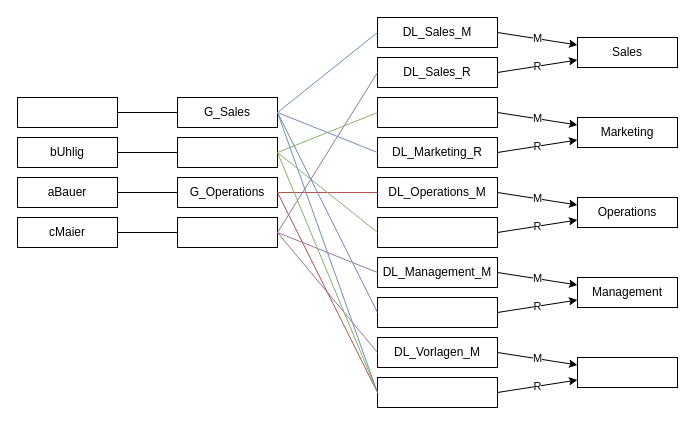
The diagram is 695 pixels wide and 425 high, and some of its shapes have lost their labels. The shapes that lost their labels are listed below. From the top down, each one's centre as x and y in pixels, then its label:
the point at 67,112: lFruehstueck
the point at 437,112: DL_Marketing_M
the point at 227,152: G_Marketing
the point at 227,232: G_Management
the point at 437,232: DL_Operations_R
the point at 437,312: DL_Management_R
the point at 437,392: DL_Vorlagen_R
the point at 627,372: Vorlagen
